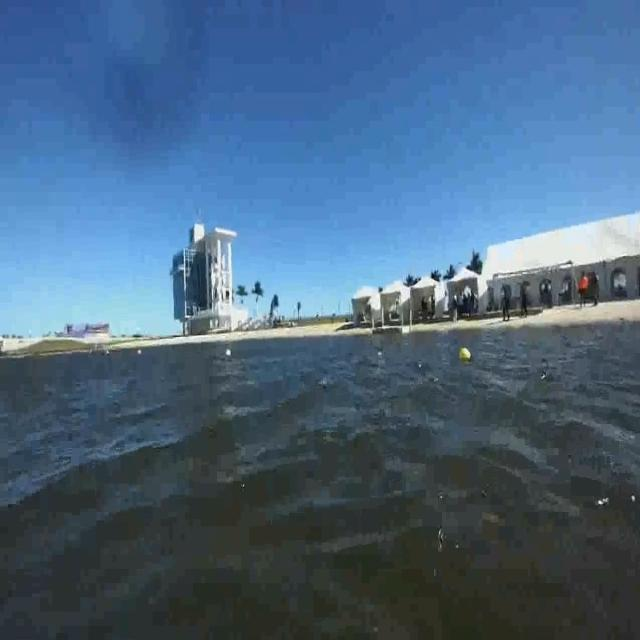yellow-buoy: (459, 346, 471, 362)
